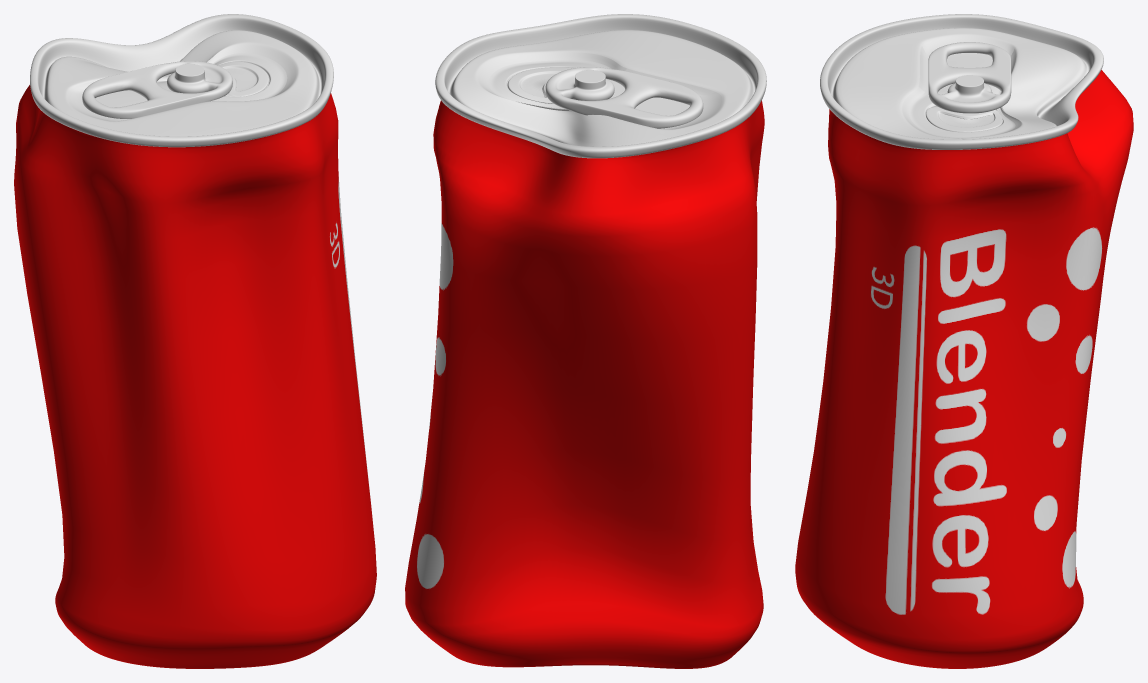
Rendered from smashed_can_1.glb.
3 views of the same model, side by side, from view 1: azimuth 30°, elevation 25°; view 2: azimuth 150°, elevation 25°; view 3: azimuth 270°, elevation 25° (orthographic). The views are drawn at different scales.
Visible parts, largest first — view 1: Can, Tab; view 2: Can, Tab; view 3: Can, Tab.
Boxes of the visible parts, x1=… form: Can: x1=14, y1=14, x2=376, y2=668; Tab: x1=82, y1=61, x2=232, y2=118; Can: x1=405, y1=14, x2=766, y2=668; Tab: x1=545, y1=67, x2=703, y2=128; Can: x1=795, y1=14, x2=1133, y2=668; Tab: x1=928, y1=42, x2=1011, y2=113.
Bounding box in the file's own units: 5.6 × 9.24 × 5.33.
2 materials, 1 textured.
